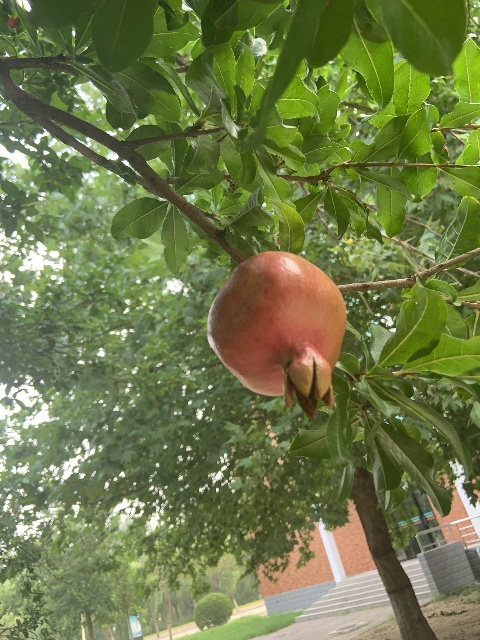ripe: (208, 250, 346, 420)
